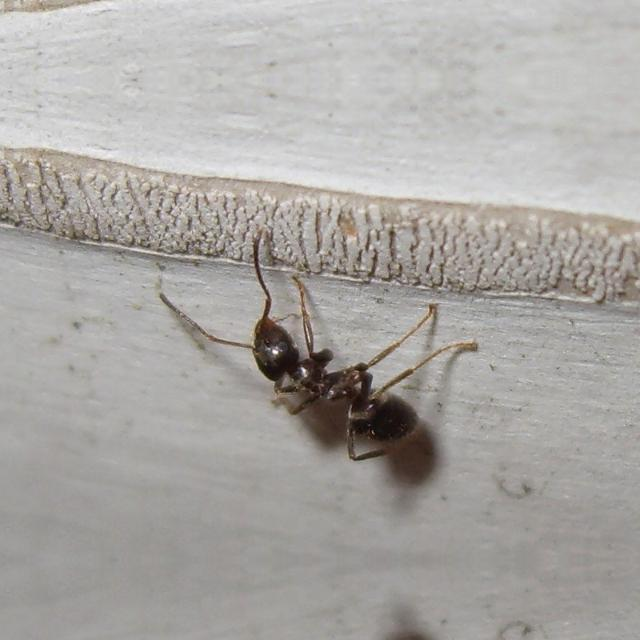Lasius: (226, 275, 444, 469)
